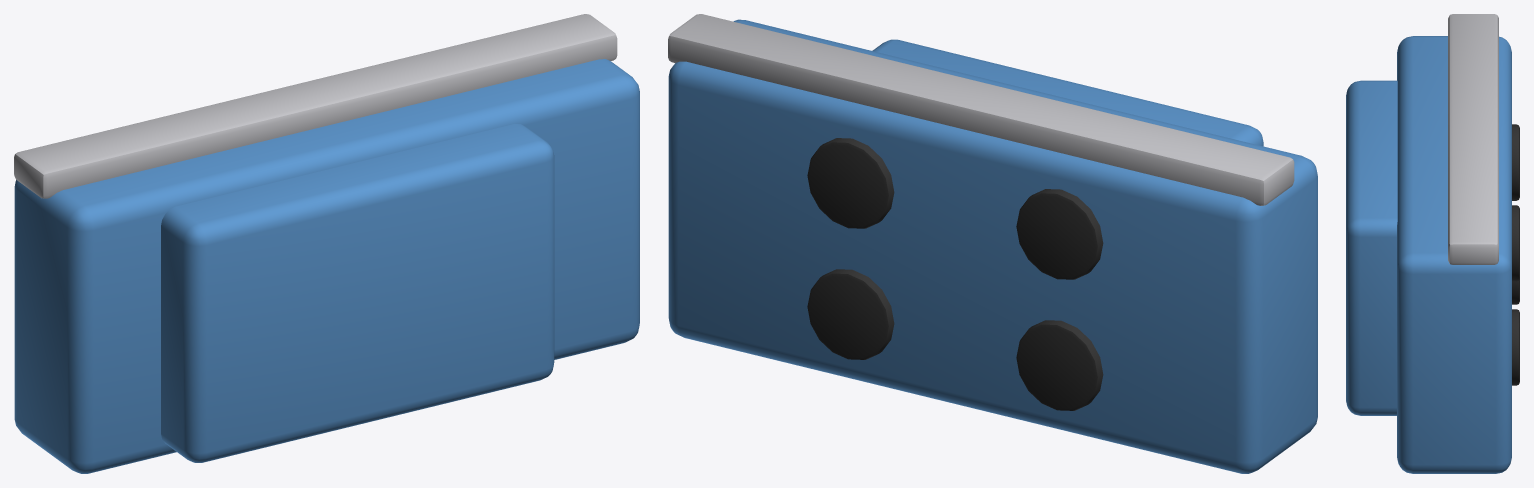
Rendered from car_blue.glb.
3 views of the same model, side by side, from view 1: azimuth 30°, elevation 25°; view 2: azimuth 150°, elevation 25°; view 3: azimuth 270°, elevation 25° (orthographic). The views are drawn at different scales.
Parts seen in each view (by area): view 1: Cabin, LowerBody, Bumper; view 2: LowerBody, Bumper, Cabin, Wheel_-0.3_-0.18, Wheel_0.3_-0.18, Wheel_0.3_0.18, Wheel_-0.3_0.18; view 3: LowerBody, Cabin, Bumper, Wheel_0.3_0.18, Wheel_0.3_-0.18, Wheel_-0.3_0.18.
Boxes of the visible parts, <box> form: Cabin: <box>161,124,554,462</box>; LowerBody: <box>14,59,639,473</box>; Bumper: <box>14,14,617,198</box>; LowerBody: <box>668,19,1317,473</box>; Bumper: <box>668,14,1294,205</box>; Cabin: <box>872,39,1263,146</box>; Wheel_-0.3_-0.18: <box>1016,320,1103,410</box>; Wheel_0.3_-0.18: <box>807,269,894,359</box>; Wheel_0.3_0.18: <box>807,138,894,228</box>; Wheel_-0.3_0.18: <box>1016,189,1103,279</box>; LowerBody: <box>1397,36,1511,473</box>; Cabin: <box>1346,80,1397,415</box>; Bumper: <box>1448,14,1498,264</box>; Wheel_0.3_0.18: <box>1512,205,1519,281</box>; Wheel_0.3_-0.18: <box>1512,309,1519,385</box>; Wheel_-0.3_0.18: <box>1512,124,1519,200</box>.
Size of the model in its own units: 1.72 by 0.82 by 0.545.
